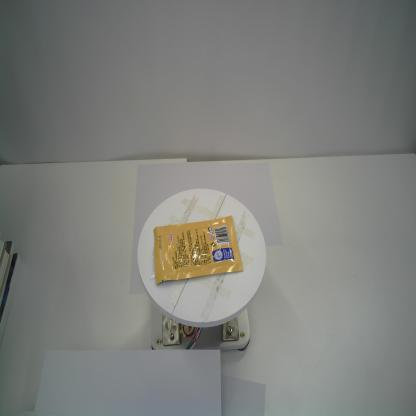Seasoner: (151, 215, 244, 286)
